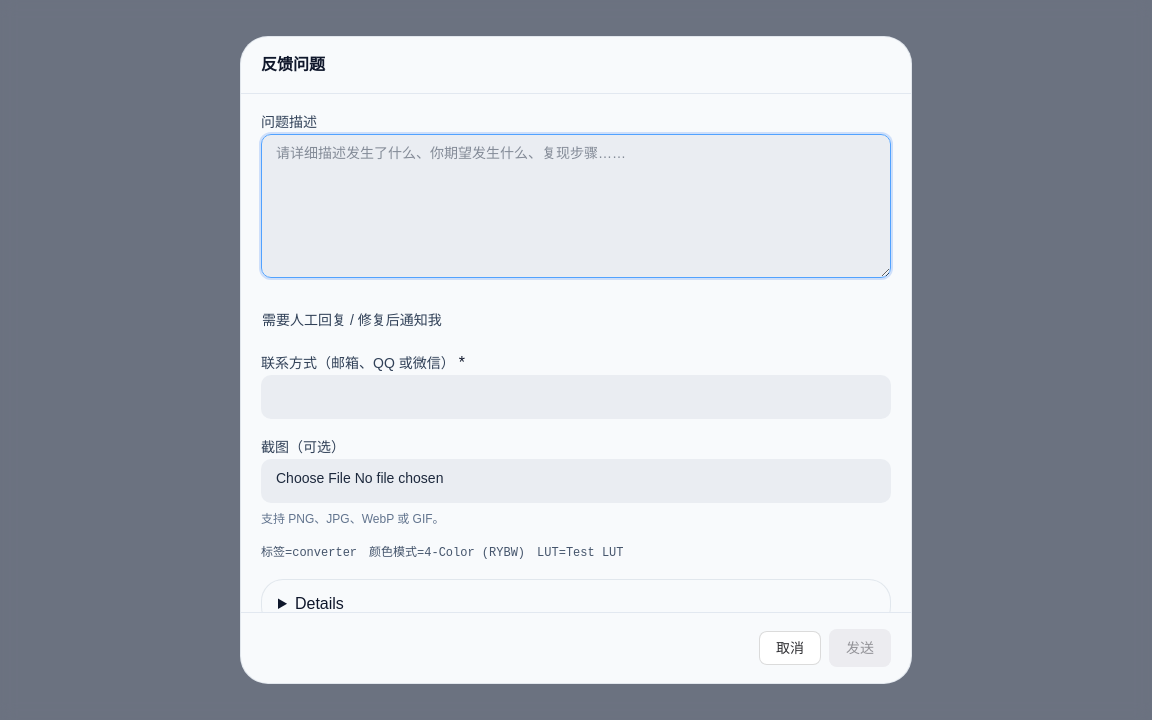
Test case: BugReportModal › disables submit until description has content
Expected: the button "发送" is disabled, [829, 629, 891, 667]
Step 1. Type "Preview failed" into the text box labelled "问题描述" → [576, 206], box [261, 134, 891, 278]
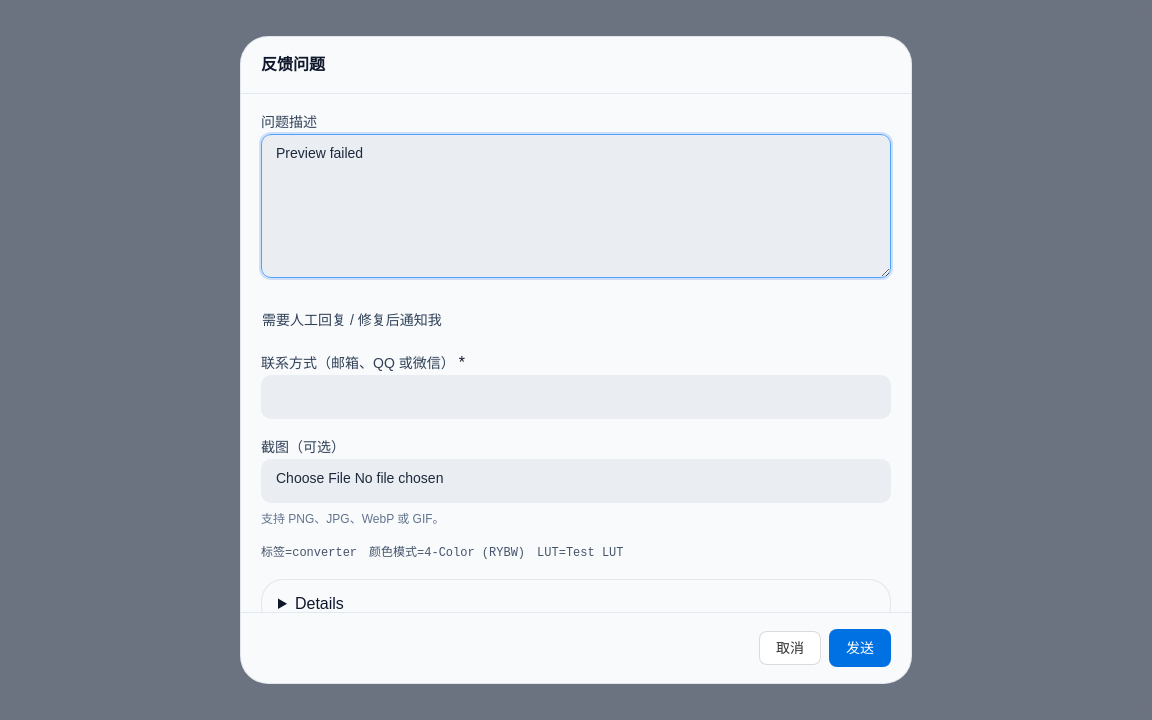
Expected: the button "发送" is enabled, [829, 629, 891, 667]
